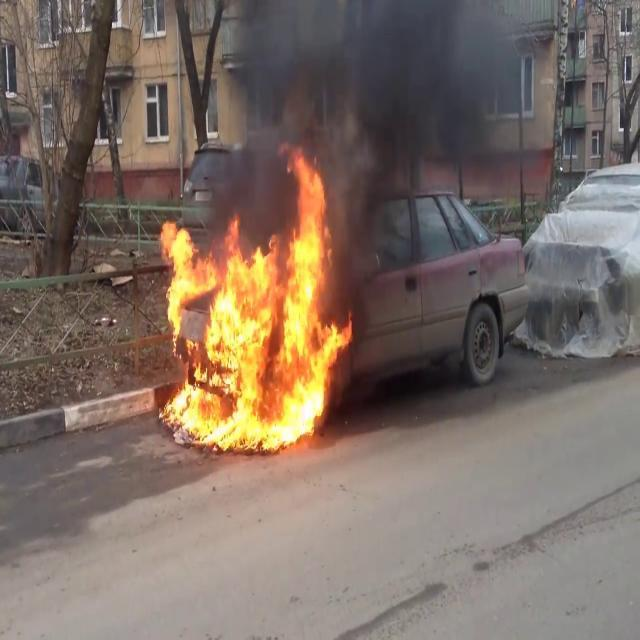Fire: (153, 162, 354, 458)
Smoke: (212, 0, 528, 210)
